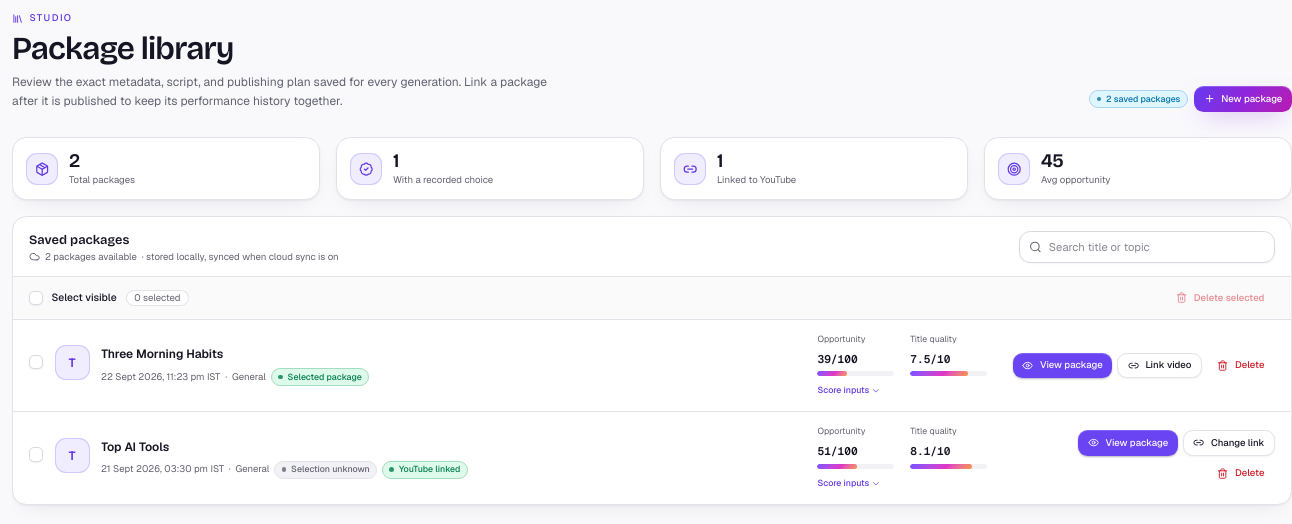
HistoryPage › enables bulk delete only once something is selected
Expected: the button "Three Morning Habits" is shown, [101,345,223,363]
Expected: the button "Delete selected" is disabled, [1166,285,1275,311]
What coordinates should you click on to do the following:
click the checkbox named "Select Three Morning Habits"
I would click on:
 (36, 362)
Its box is [29,355,43,369].
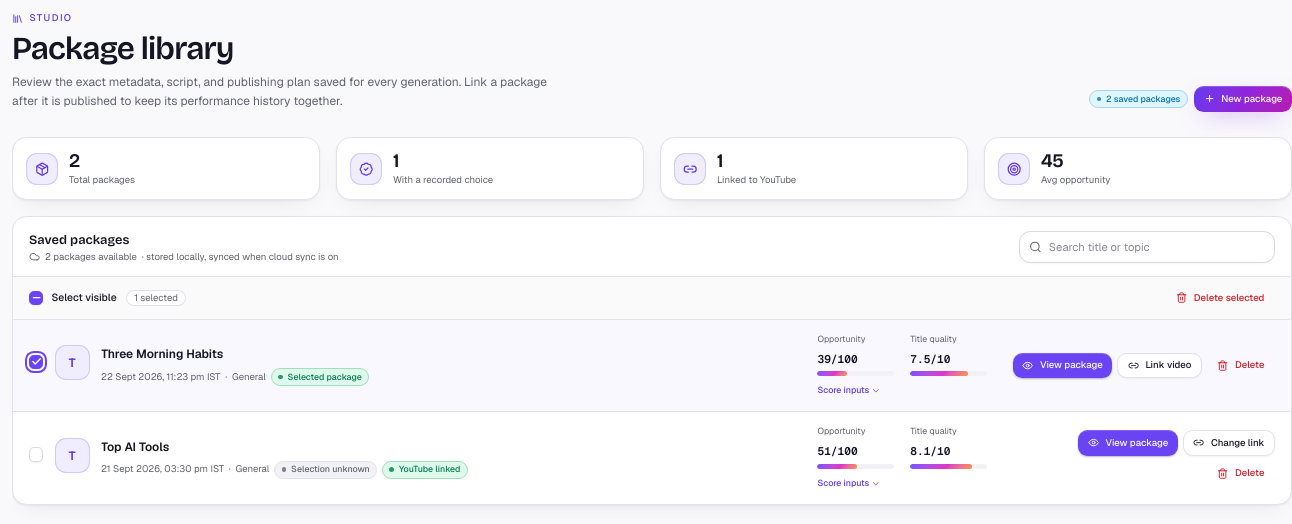
Expected: the button "Delete selected" is enabled, [1166,285,1275,311]
Expected: the text "1 selected" is shown, [126,290,186,306]
